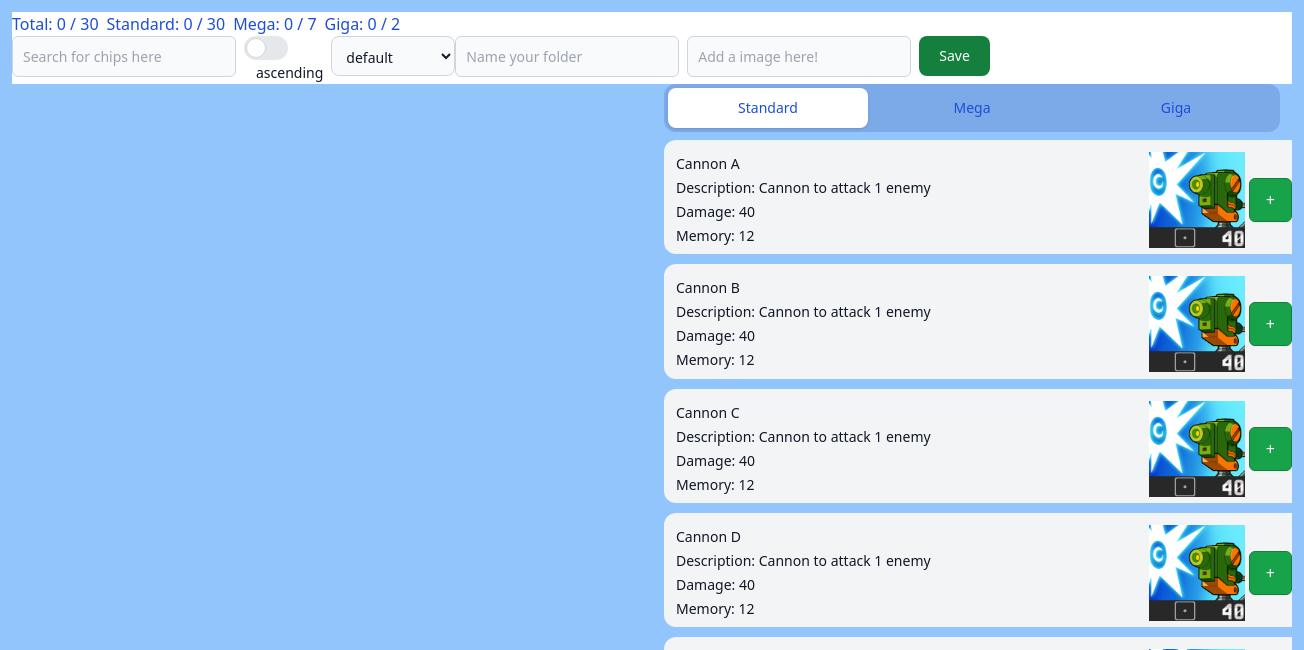
Test: Create test suite › should be able to click on toggle from ascending to descending
The width and height of the screenshot is (1304, 650).
Click the checkbox: x=284, y=60 [244, 36, 323, 84]
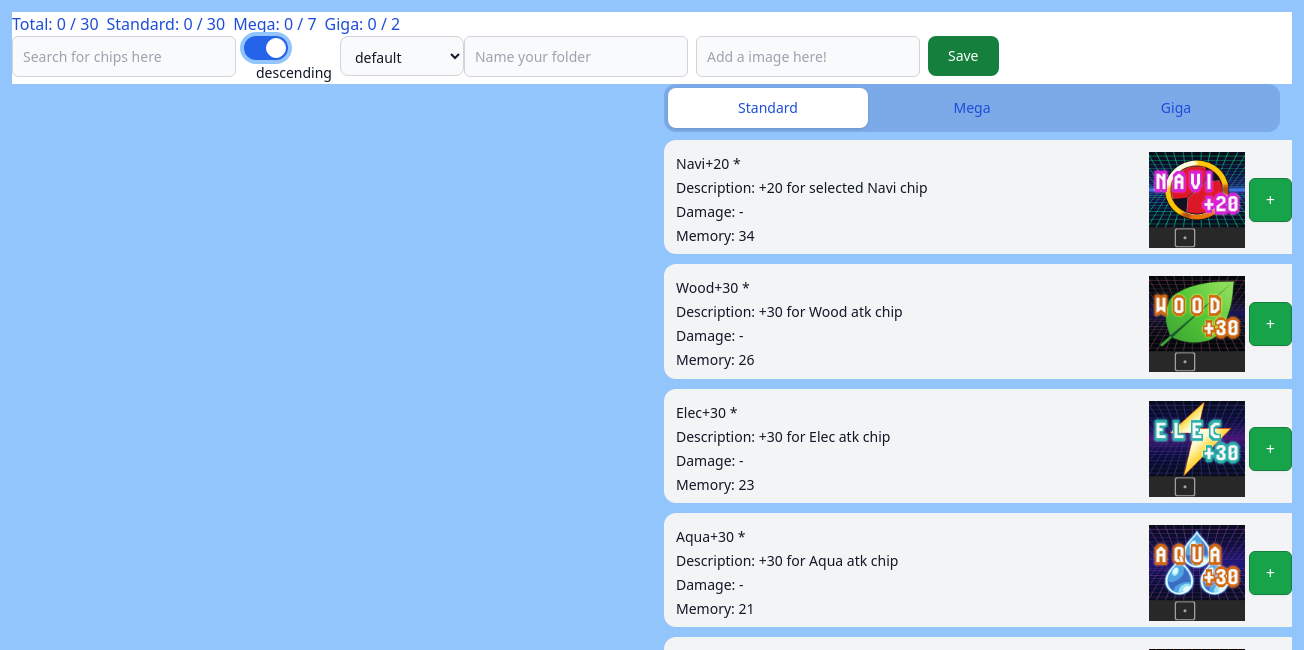
expect the text "descending" is shown: met, box [256, 63, 332, 82]
